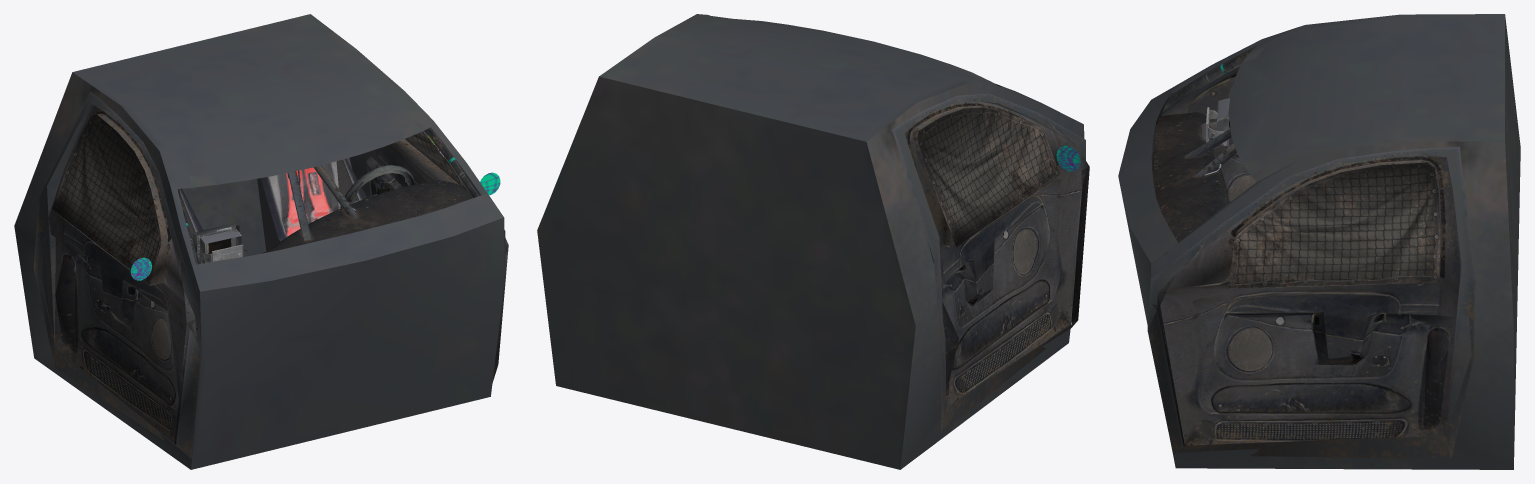
The model's file is int_drb.obj.
3 renders of one model, left to right at view 1: azimuth 30°, elevation 25°; view 2: azimuth 150°, elevation 25°; view 3: azimuth 270°, elevation 25°, orthographic. The views are drawn at different scales.
Visible parts, largest first — view 1: int_main, int_door_fr, int_window_fr, int_seats, int_door_fl, int_rollcage, int_steering_wheel, int_window_fl; view 2: int_main, int_door_fr, int_window_fr; view 3: int_main, int_door_fl, int_window_fl, int_door_fr, int_rollcage.
Part boxes in pixels (left/top/right/bottom): int_main: left=14, top=14, right=504, bottom=469; int_door_fr: left=33, top=91, right=201, bottom=458; int_window_fr: left=52, top=114, right=160, bottom=284; int_seats: left=119, top=134, right=366, bottom=251; int_door_fl: left=366, top=139, right=508, bottom=383; int_rollcage: left=177, top=128, right=479, bottom=264; int_steering_wheel: left=341, top=165, right=414, bottom=207; int_window_fl: left=405, top=131, right=461, bottom=185; int_main: left=537, top=14, right=1084, bottom=469; int_door_fr: left=892, top=93, right=1089, bottom=433; int_window_fr: left=917, top=107, right=1060, bottom=247; int_main: left=1118, top=14, right=1520, bottom=469; int_door_fl: left=1147, top=146, right=1475, bottom=458; int_window_fl: left=1228, top=162, right=1440, bottom=288; int_door_fr: left=1169, top=71, right=1256, bottom=226; int_rollcage: left=1160, top=49, right=1252, bottom=176.
Size of the model in its own units: 1.99 by 1.44 by 1.7.
